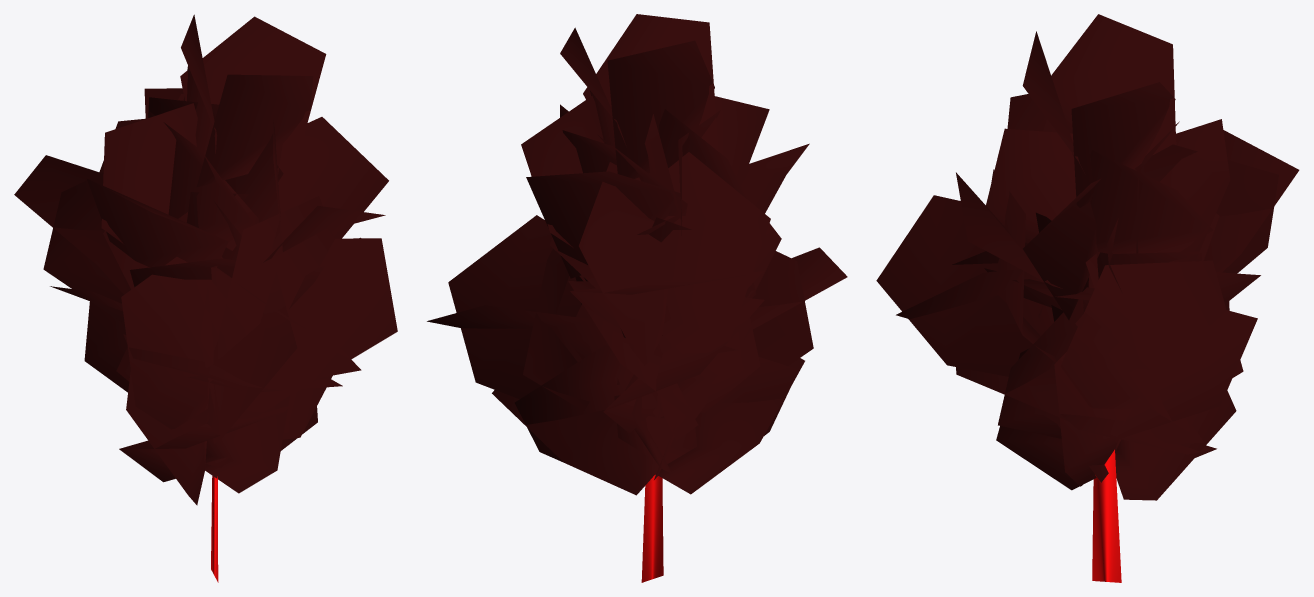
File: SM_Tree_Birch_Small_01_LOD01.fbx
3 views of the same model, side by side, from view 1: azimuth 30°, elevation 25°; view 2: azimuth 150°, elevation 25°; view 3: azimuth 270°, elevation 25° (orthographic).
Parts seen in each view (by area): view 1: SM_Tree_Birch_Small_01_LOD01; view 2: SM_Tree_Birch_Small_01_LOD01; view 3: SM_Tree_Birch_Small_01_LOD01.
Boxes of the visible parts, <box> form: SM_Tree_Birch_Small_01_LOD01: <box>14,14,397,582</box>; SM_Tree_Birch_Small_01_LOD01: <box>427,14,847,582</box>; SM_Tree_Birch_Small_01_LOD01: <box>876,14,1299,582</box>.
Bounding box in the file's own units: 117 × 183 × 128.
